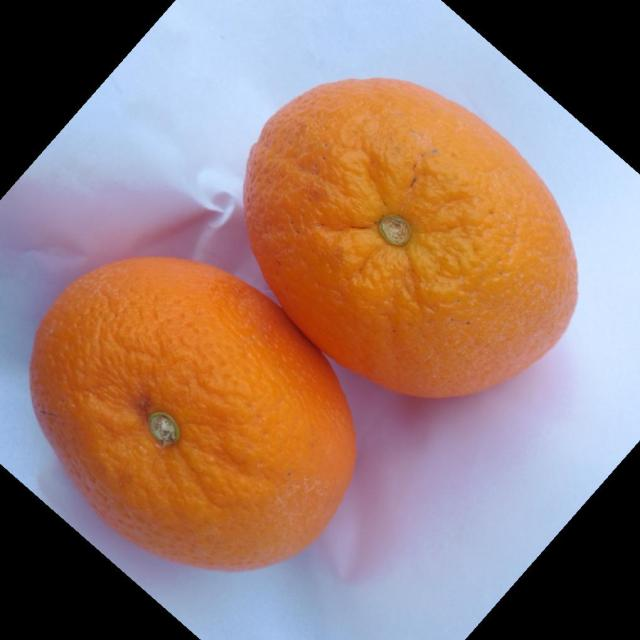fresh orange: (242, 75, 579, 400), (28, 254, 357, 572)
